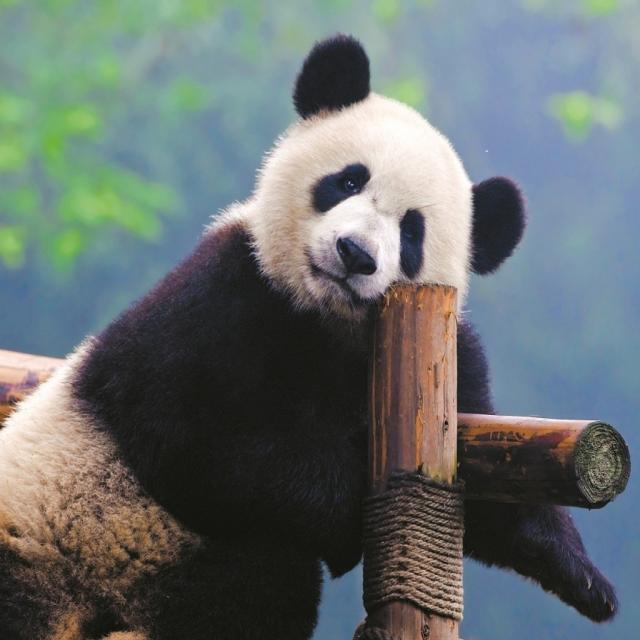panda: (0, 28, 623, 639)
